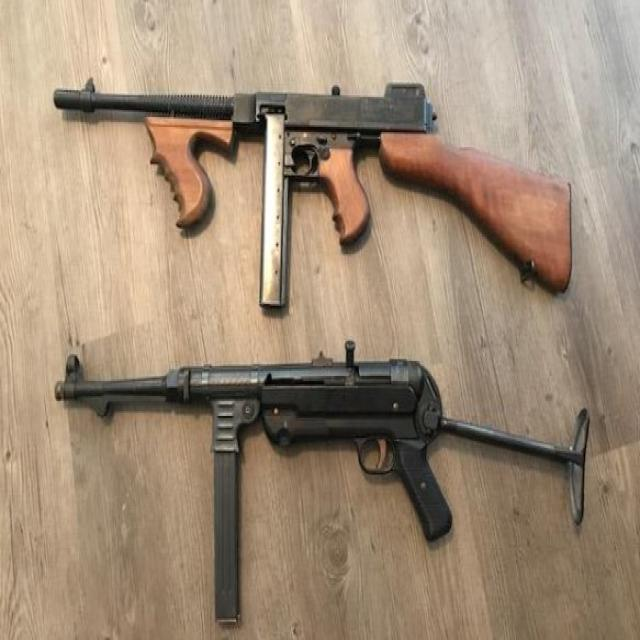SMG: (55, 344, 587, 627), (54, 84, 572, 317)
